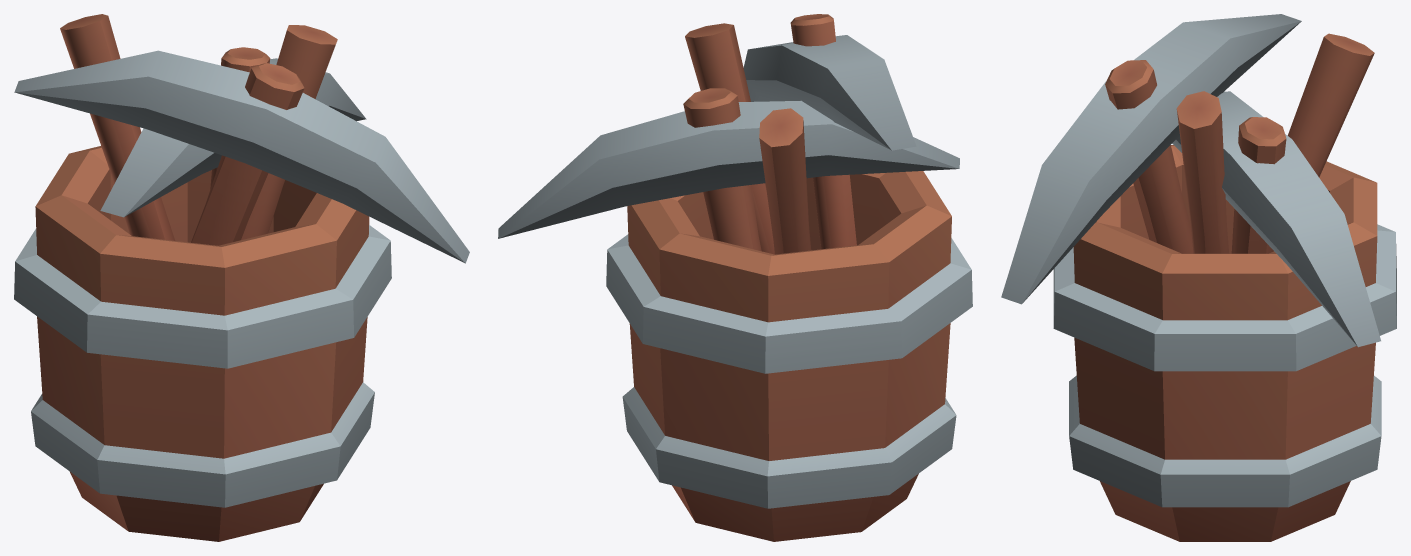
Rendered from bucket_pickaxes.glb.
3 renders of one model, left to right at view 1: azimuth 30°, elevation 25°; view 2: azimuth 150°, elevation 25°; view 3: azimuth 270°, elevation 25°, orthographic. The views are drawn at different scales.
Visible parts, largest first — view 1: bucket_pickaxes; view 2: bucket_pickaxes; view 3: bucket_pickaxes.
Boxes of the visible parts, x1,y1,x2,y2 form: bucket_pickaxes: [14, 14, 469, 541]; bucket_pickaxes: [498, 14, 972, 541]; bucket_pickaxes: [1001, 14, 1396, 541].
Size of the model in its own units: 1.25 by 1.39 by 1.13.
1 material, 1 textured.
